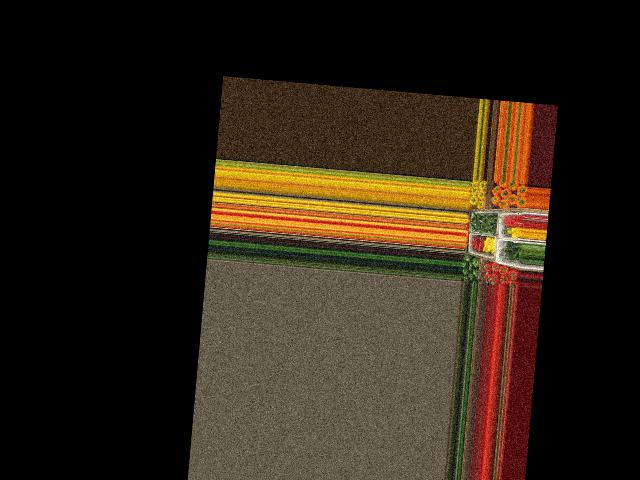bell_pepper: (469, 267, 481, 278)
